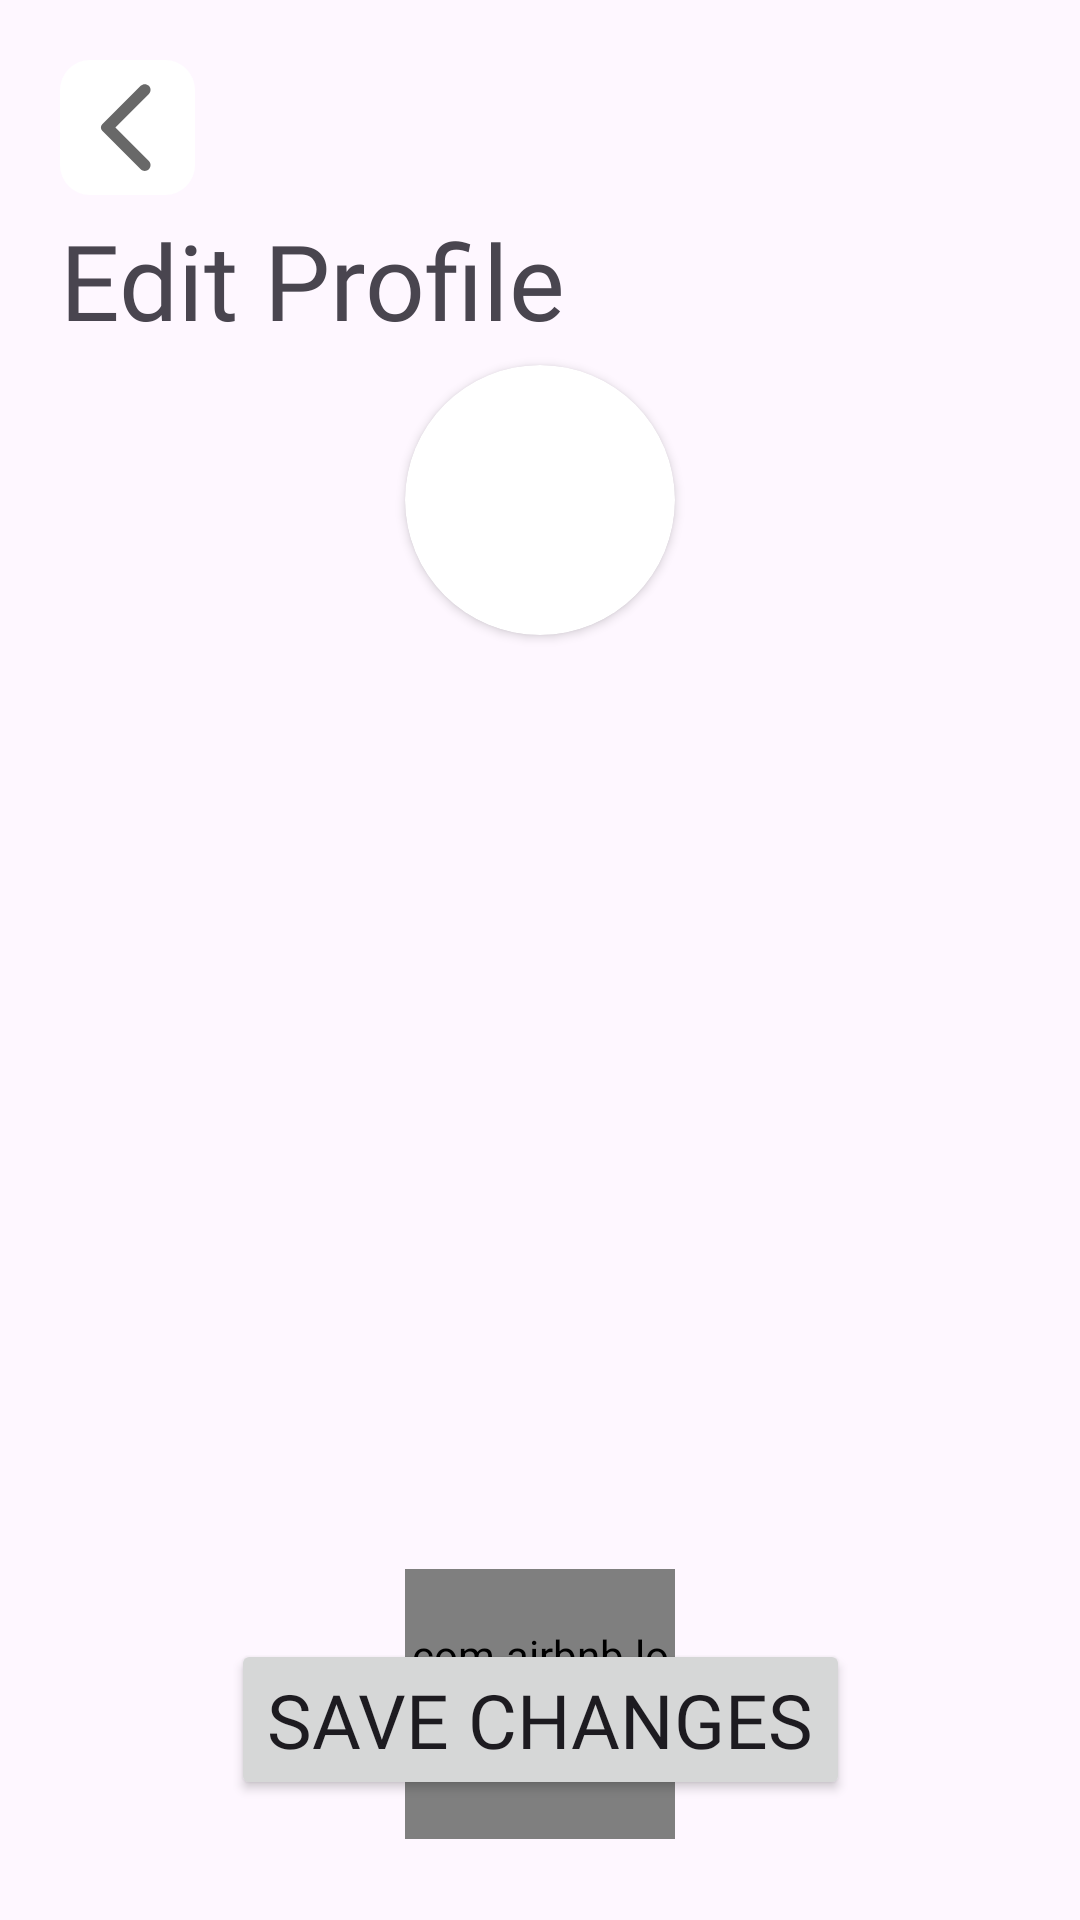

Point at icon controls on the screen. Image size 1080×1920, points as (x,y).
back: (126,127)
